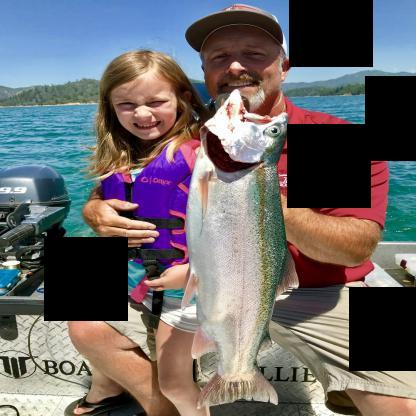fish: (176, 89, 290, 413)
